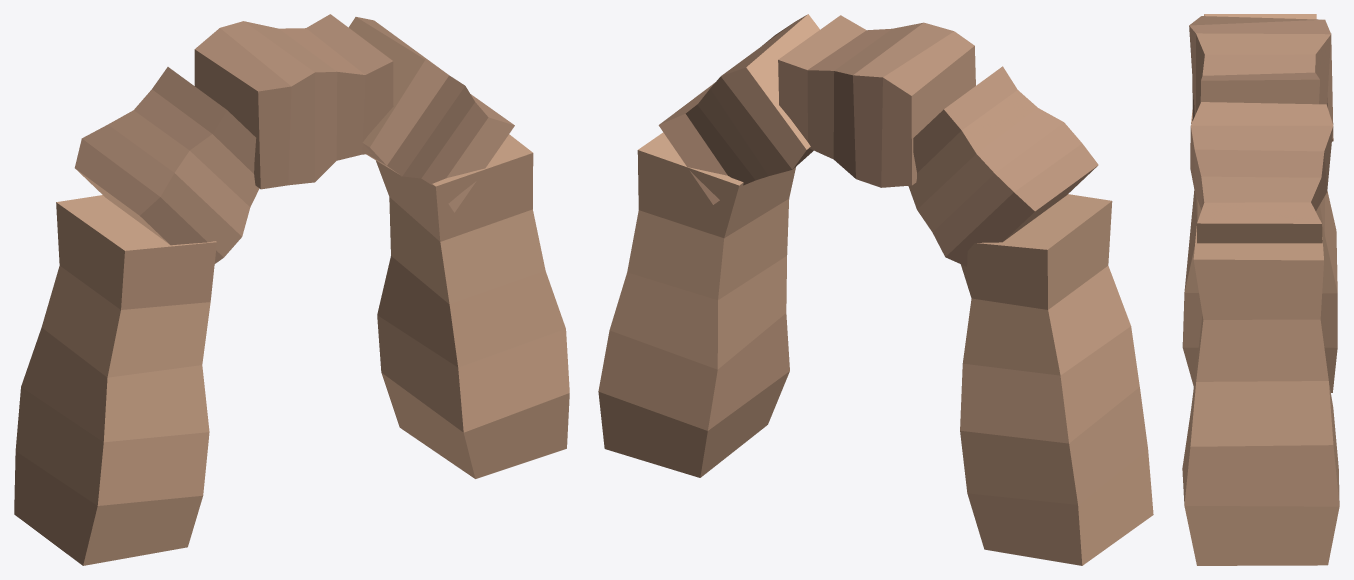
The model's file is desert_Arch.fbx.
The picture shows the model from 3 angles, left to right: view 1: azimuth 30°, elevation 25°; view 2: azimuth 150°, elevation 25°; view 3: azimuth 270°, elevation 25°; orthographic projection. The views are drawn at different scales.
Parts seen in each view (by area): view 1: Arch; view 2: Arch; view 3: Arch.
Boxes of the visible parts, box(x1,y1,x2,y2) form: Arch: box(14, 14, 569, 565); Arch: box(598, 14, 1153, 565); Arch: box(1182, 14, 1339, 565).
Bounding box in the file's own units: 4.3 × 3.78 × 1.28.
